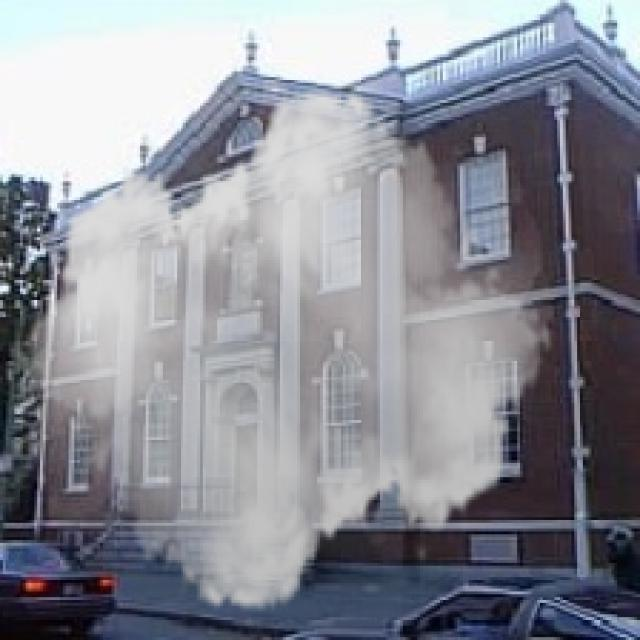Smoke: (17, 69, 554, 632)
